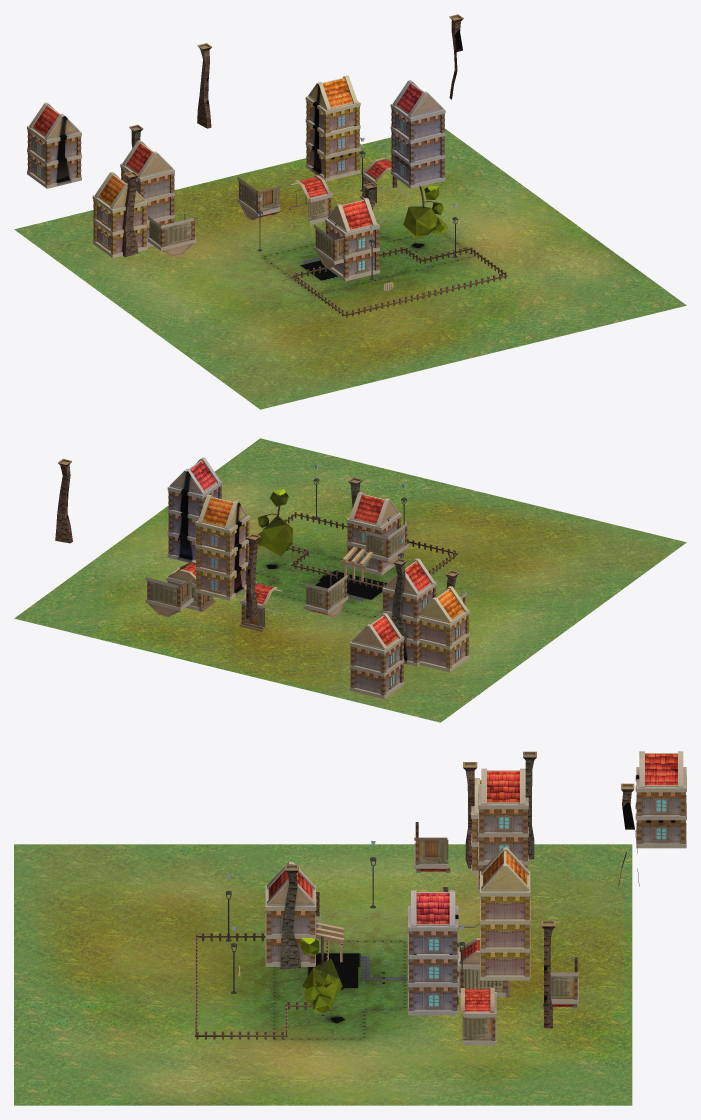
Rendered from CartoonHouses.gltf.
3 views of the same model, one above another, from view 1: azimuth 30°, elevation 25°; view 2: azimuth 150°, elevation 25°; view 3: azimuth 270°, elevation 25° (orthographic). The views are drawn at different scales.
Visible parts, largest first — view 1: Sol, Object005, Object007, maison001, Object002, maison, maison002, cloture, rdc001, arbre, rdc002, rdc003 (+3 smaller); view 2: Sol, Object005, Object002, maison001, Object007, maison002, maison, rdc004, arbre, rdc002, cloture, rdc (+4 smaller); view 3: Sol, Object007, Object005, maison002, maison, Object002, rdc005, arbre, rdc003, cloture, maison001, rdc001 (+3 smaller).
Boxes of the visible parts, x1,y1,x2,y2 form: Sol: (14, 128, 686, 409); Object005: (305, 75, 360, 181); Object007: (390, 80, 445, 188); maison001: (92, 171, 147, 257); Object002: (27, 102, 81, 188); maison: (325, 182, 379, 281); maison002: (120, 124, 174, 246); cloture: (291, 246, 507, 317); rdc001: (148, 214, 197, 256); arbre: (403, 186, 448, 238); rdc002: (237, 176, 281, 220); rdc003: (289, 175, 332, 224); Sol: (14, 438, 686, 722); Object005: (195, 494, 250, 600); Object002: (349, 612, 404, 698); maison001: (418, 570, 469, 672); Object007: (167, 457, 222, 562); maison002: (382, 558, 436, 666); maison: (341, 477, 401, 581); rdc004: (145, 577, 194, 616); arbre: (257, 489, 292, 556); rdc002: (304, 573, 348, 617); cloture: (284, 511, 458, 588); rdc: (364, 521, 409, 565); Sol: (14, 844, 632, 1105); Object007: (407, 890, 458, 1015); Object005: (479, 847, 530, 980); maison002: (477, 751, 536, 893); maison: (265, 861, 343, 969); Object002: (635, 751, 686, 848); rdc005: (460, 988, 496, 1045); arbre: (300, 936, 342, 1012); rdc003: (458, 938, 510, 997); cloture: (195, 932, 328, 1039); maison001: (463, 762, 481, 874); rdc001: (414, 822, 450, 872).
Bounding box in the file's own units: 7000 × 2171 × 7619.
11 materials, 8 textured.
